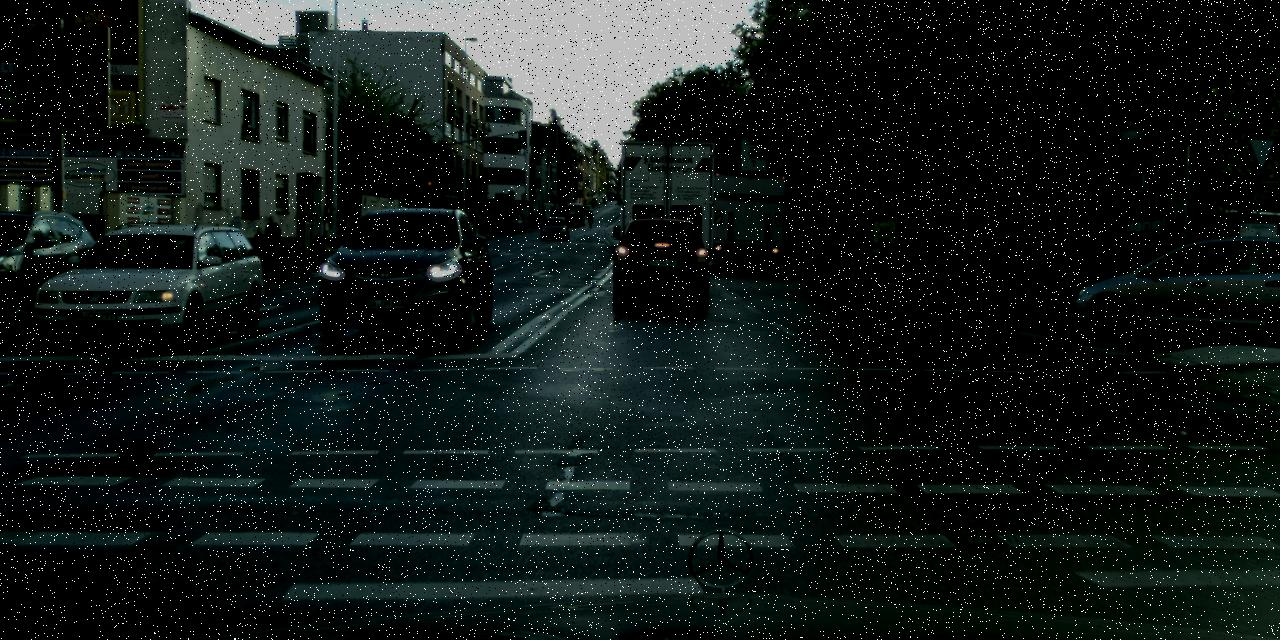ped: (262, 216, 280, 261), (252, 226, 266, 261), (587, 209, 592, 222)
